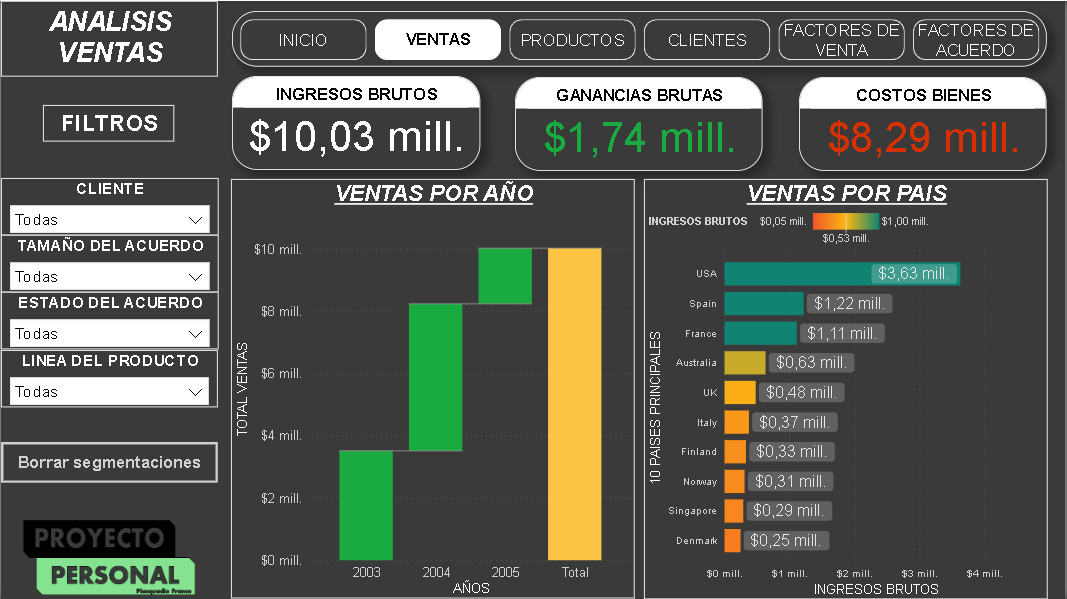

Layout of this report page (visuals, bound fields, positions):
{"tool":"powerbi","page":{"name":"VENTAS","canvas":[1280,720],"ordinal":1},"visuals":[{"type":"pageNavigator","box":[278.5,11.8,981.5,67],"z":0},{"type":"textbox","box":[0,0,261,91.1],"z":1000},{"type":"card","title":"INGRESOS BRUTOS","fields":{"Values":["_MEDIDAS.TOTAL_VENTAS"]},"box":[278.6,90,298.6,112.9],"z":2000},{"type":"textbox","box":[50.9,125.2,158.3,44],"z":3000},{"type":"slicer","title":"ESTADO DEL ACUERDO","fields":{"Values":["ORDERS.Status"]},"box":[0,351,261.5,68.8],"z":4000},{"type":"image","box":[0,620.6,261.3,99.5],"z":5000},{"type":"card","title":"GANANCIAS BRUTAS","fields":{"Values":["_MEDIDAS.INGRESOS"]},"box":[618.9,91.1,298.5,113],"z":6000},{"type":"card","title":"COSTOS BIENES","fields":{"Values":["_MEDIDAS.COSTOS"]},"box":[961.3,91.1,298.5,113],"z":7000},{"type":"slicer","title":"TAMAÑO DEL ACUERDO","fields":{"Values":["ORDERS.DealSize"]},"box":[0,282.2,261.5,68.8],"z":8000},{"type":"actionButton","box":[0,531,261.3,49.4],"z":9000},{"type":"waterfallChart","title":"VENTAS POR AÑO","fields":{"Y":["_MEDIDAS.TOTAL_VENTAS"],"Category":["CALENDARIO.AÑO"]},"box":[277.5,213.8,486.2,505],"z":10000},{"type":"slicer","title":"LINEA DEL PRODUCTO","fields":{"Values":["PRODUCTS.ProductLine"]},"box":[0,420,261.4,68.6],"z":11000},{"type":"slicer","title":"CLIENTE","fields":{"Values":["CUSTOMERS.CustomerName"]},"box":[0,213.3,261.5,68.8],"z":12000},{"type":"clusteredBarChart","title":"VENTAS POR PAIS","fields":{"Category":["LOCATIONS.Country"],"Y":["_MEDIDAS.TOTAL_VENTAS"]},"box":[773.8,213.8,486.2,506.2],"z":13000}]}

Visuals, with their boxes in screenshot pixels (x1, y1, x2, y2), scaled from the page's 1280x720 canvas onto the 1067x599 screenshot:
pageNavigator: (x1=232, y1=10, x2=1050, y2=66)
textbox: (x1=0, y1=0, x2=218, y2=76)
"INGRESOS BRUTOS" card: (x1=232, y1=75, x2=481, y2=169)
textbox: (x1=42, y1=104, x2=174, y2=141)
"ESTADO DEL ACUERDO" slicer: (x1=0, y1=292, x2=218, y2=349)
image: (x1=0, y1=516, x2=218, y2=598)
"GANANCIAS BRUTAS" card: (x1=516, y1=76, x2=765, y2=170)
"COSTOS BIENES" card: (x1=801, y1=76, x2=1050, y2=170)
"TAMAÑO DEL ACUERDO" slicer: (x1=0, y1=235, x2=218, y2=292)
actionButton: (x1=0, y1=442, x2=218, y2=483)
"VENTAS POR AÑO" waterfallChart: (x1=231, y1=178, x2=637, y2=598)
"LINEA DEL PRODUCTO" slicer: (x1=0, y1=349, x2=218, y2=406)
"CLIENTE" slicer: (x1=0, y1=177, x2=218, y2=235)
"VENTAS POR PAIS" clusteredBarChart: (x1=645, y1=178, x2=1050, y2=598)
